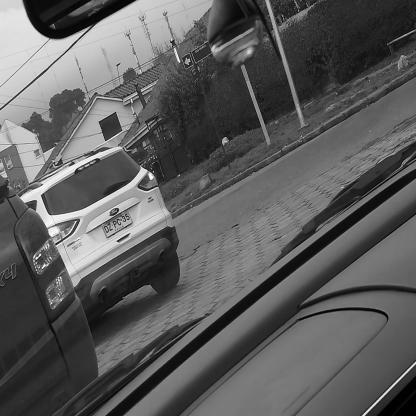Patente: (99, 206, 135, 242)
